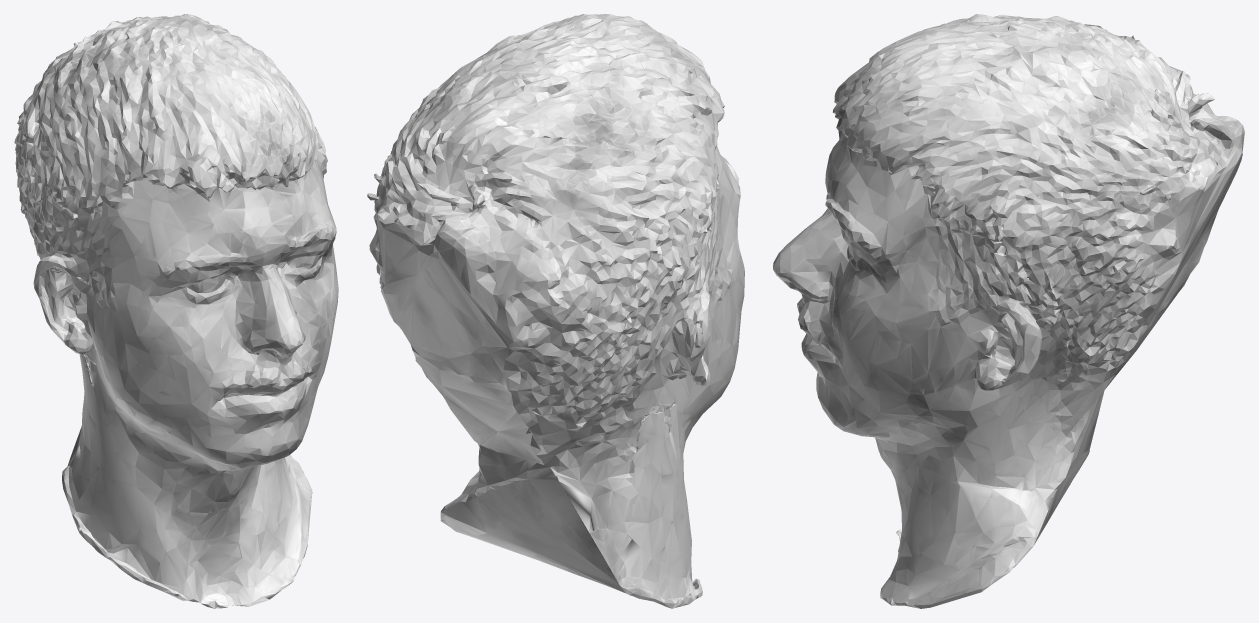
Rendered from josch14kMobile.glb.
The picture shows the model from 3 angles, left to right: view 1: azimuth 30°, elevation 25°; view 2: azimuth 150°, elevation 25°; view 3: azimuth 270°, elevation 25°; orthographic projection. The views are drawn at different scales.
Visible parts, largest first — view 1: josch3; view 2: josch3; view 3: josch3.
Part boxes in pixels (left/top/right/bottom): josch3: left=14, top=14, right=338, bottom=608; josch3: left=367, top=14, right=744, bottom=608; josch3: left=773, top=14, right=1244, bottom=608.
Size of the model in its own units: 0.1893 by 0.3445 by 0.2614.
Materials: 1 (1 with a texture image).
